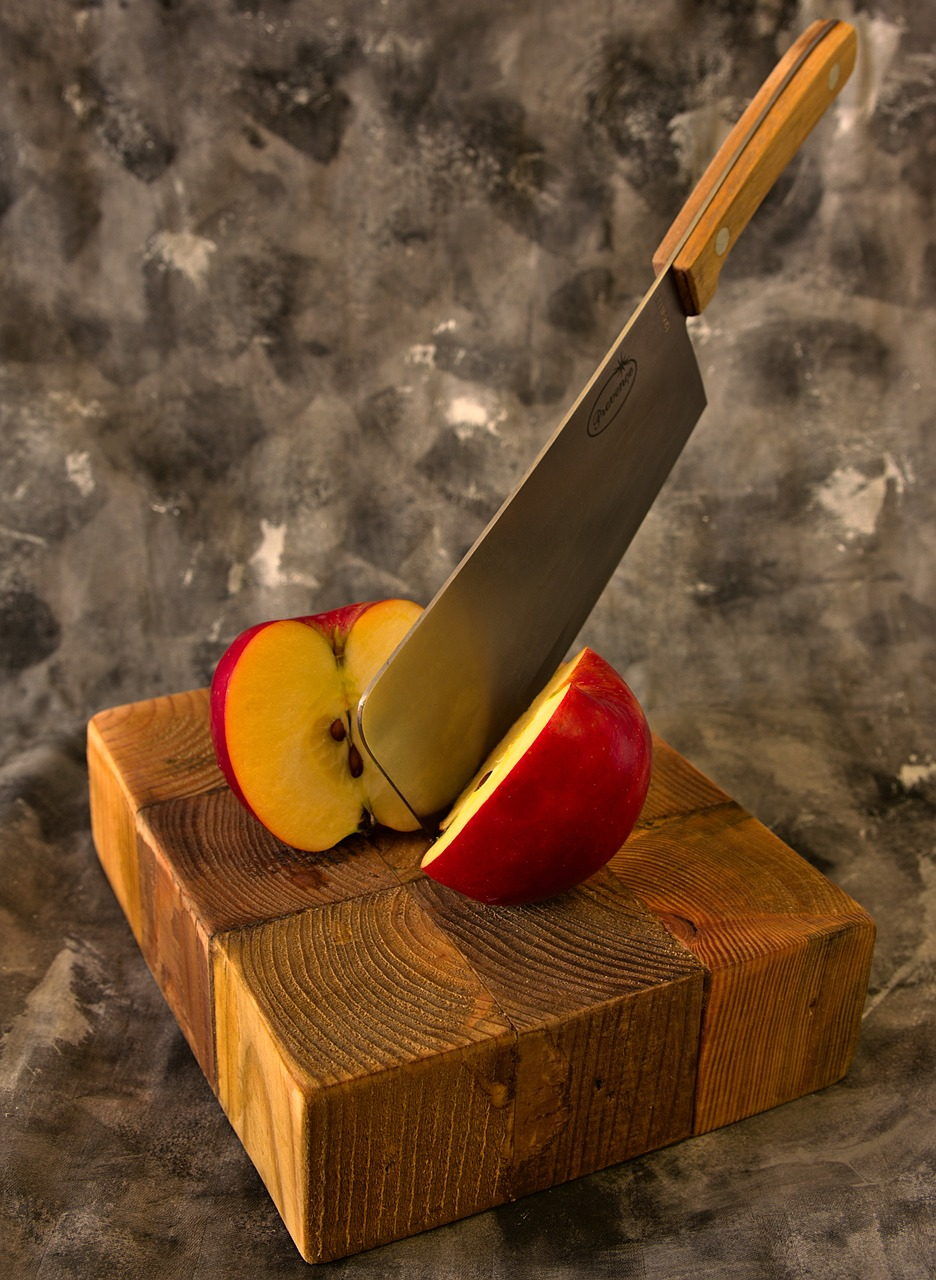knife: (359, 13, 859, 864)
